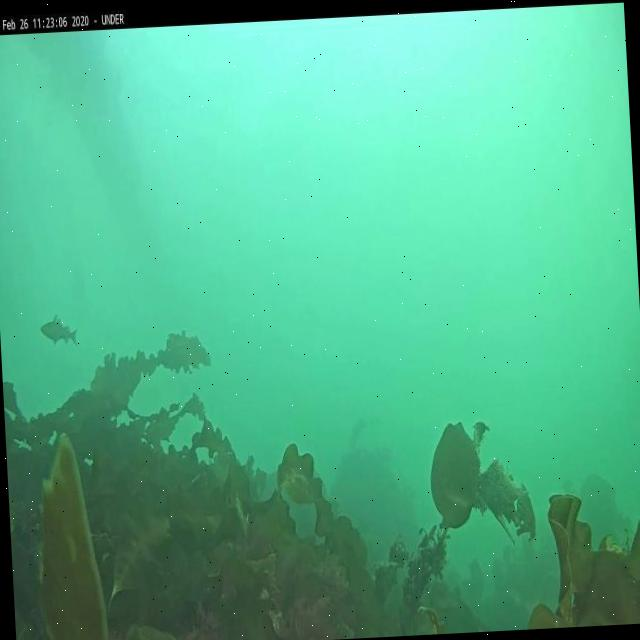fish: (42, 312, 78, 346)
